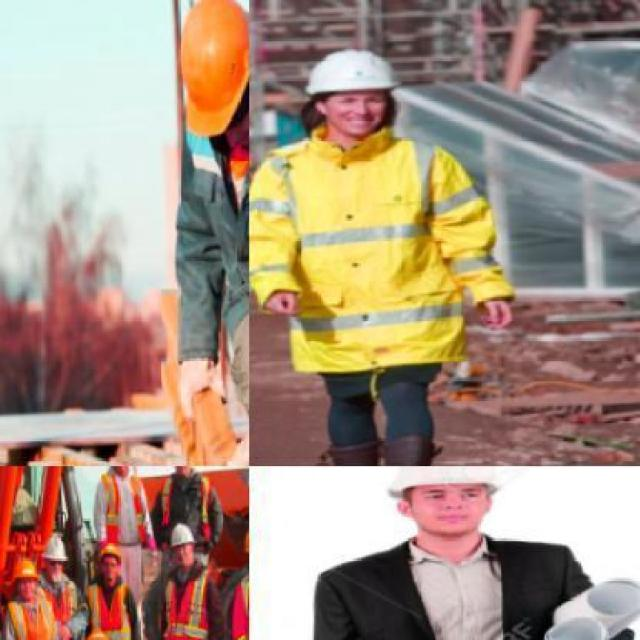vest: (250, 109, 518, 386), (168, 72, 248, 338), (163, 560, 219, 638), (99, 466, 150, 543), (83, 571, 139, 638), (160, 471, 215, 538), (6, 590, 60, 638), (44, 571, 84, 631)
